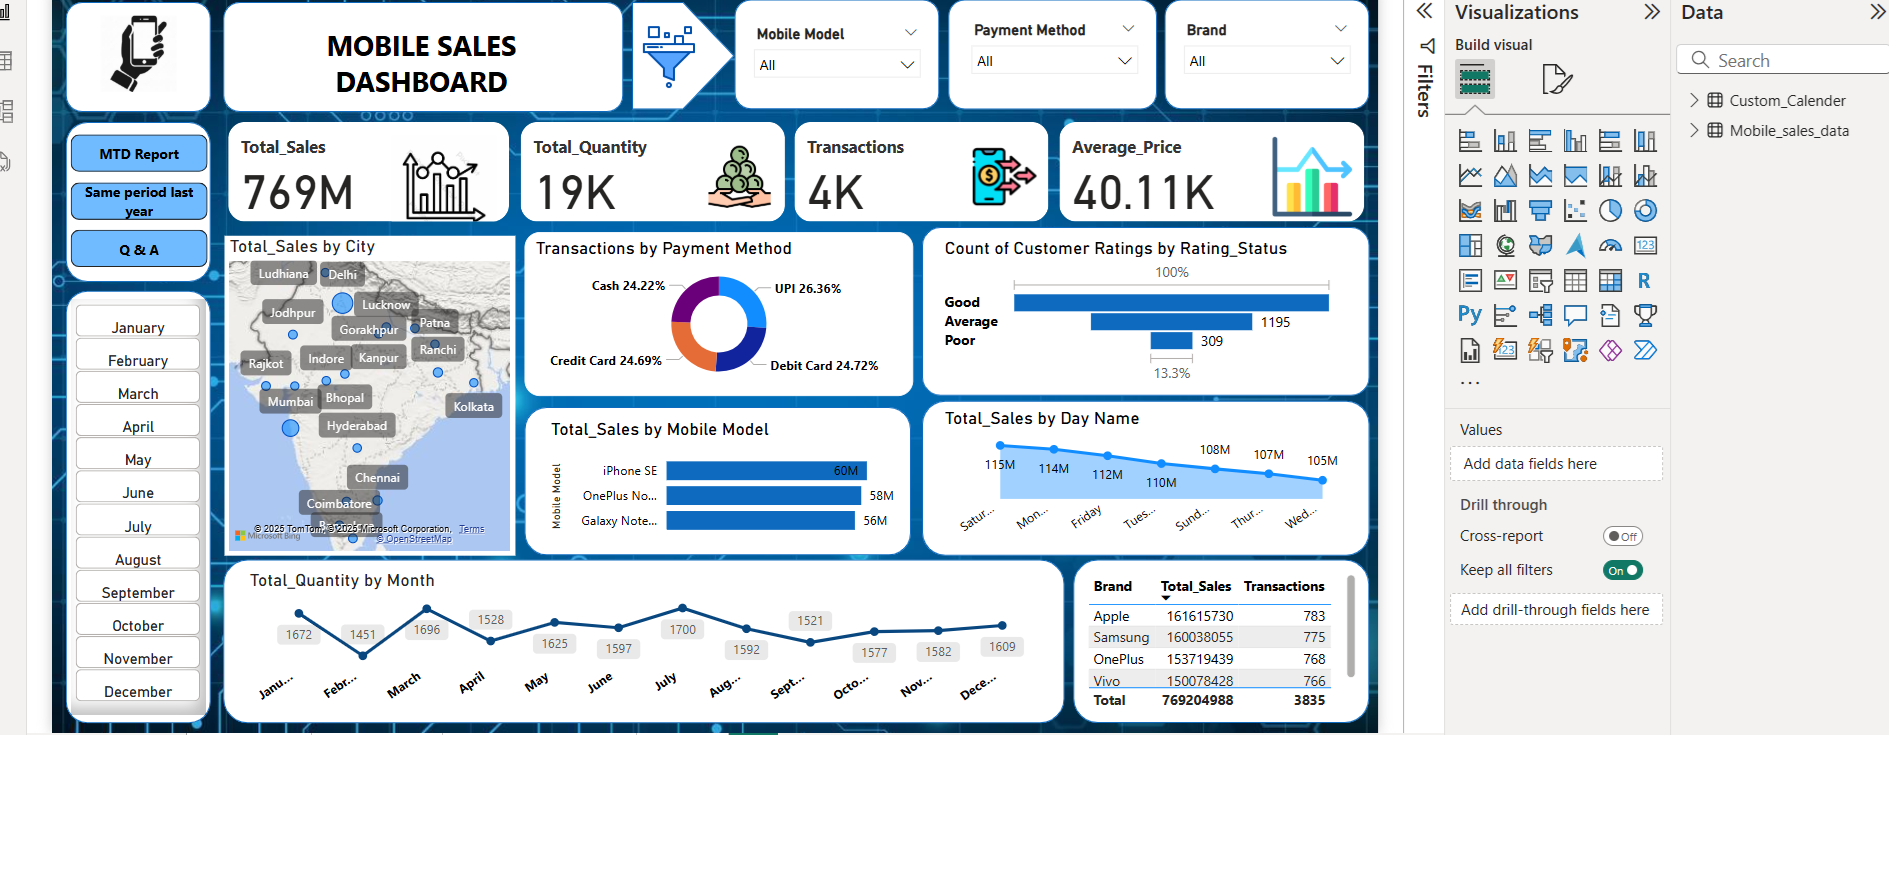

What the dashboard file says about the page in this screenshot:
{"tool":"powerbi","page":{"name":"Dashboard","canvas":[1280,720],"ordinal":0},"visuals":[{"type":"shape","box":[13.3,14.5,139.9,106.2],"z":0},{"type":"image","box":[26.5,22.9,113.4,83.2],"z":1000},{"type":"shape","box":[13.3,130.3,139.9,154.4],"z":2000},{"type":"shape","box":[13.3,293.2,139.9,417.4],"z":3000},{"type":"advancedSlicerVisual","fields":{"Values":["Custom_Calender.Date.Variation.Date Hierarchy.Month"]},"box":[18.1,301.6,130.3,400.5],"z":4000},{"type":"shape","box":[165.3,14.5,386.1,106.2],"z":5000},{"type":"shape","box":[658.7,12.1,197.9,106.2],"z":6000},{"type":"shape","box":[865,12.1,201.5,106.2],"z":7000},{"type":"shape","box":[1073.7,12.1,197.9,106.2],"z":8000},{"type":"cardVisual","fields":{"Data":["Mobile_sales_data.Total_Sales"]},"box":[165.3,125.5,281.1,106.2],"z":9000},{"type":"cardVisual","fields":{"Data":["Mobile_sales_data.Total_Quantity"]},"box":[447.6,125.5,265.4,106.2],"z":10000},{"type":"cardVisual","fields":{"Data":["Mobile_sales_data.Transactions"]},"box":[711.8,125.5,255.8,106.2],"z":11000},{"type":"cardVisual","fields":{"Data":["Mobile_sales_data.Average_Price"]},"box":[967.6,125.5,304,106.2],"z":12000},{"type":"shape","box":[456,405.4,374,143.6],"z":13000},{"type":"shape","box":[839.7,399.3,431.9,149.6],"z":14000},{"type":"shape","box":[839.7,231.6,431.9,162.9],"z":15000},{"type":"shape","box":[165.3,552.5,811.9,158],"z":16000},{"type":"slicer","fields":{"Values":["Mobile_sales_data.Mobile Model"]},"box":[667.2,31.4,181,74.8],"z":17000},{"type":"slicer","fields":{"Values":["Mobile_sales_data.Payment Method"]},"box":[877.1,27.7,181,74.8],"z":18000},{"type":"slicer","fields":{"Values":["Mobile_sales_data.Brand"]},"box":[1082.2,27.7,181,74.8],"z":19000},{"type":"shape","box":[559.8,14.5,98.9,103.8],"z":20000},{"type":"image","box":[559.8,21.7,71.2,91.7],"z":21000},{"type":"textbox","box":[173.7,32.6,365.6,80.8],"z":22000},{"type":"shape","box":[985.7,552.5,285.9,158],"z":23000},{"type":"lineChart","fields":{"Category":["Custom_Calender.Date.Variation.Date Hierarchy.Month"],"Y":["Mobile_sales_data.Total_Quantity"]},"box":[185.8,562.2,761.3,139.9],"z":24000},{"type":"map","fields":{"Category":["Mobile_sales_data.City"],"Size":["Mobile_sales_data.Total_Sales"]},"box":[166.5,240.1,281.1,308.8],"z":25000},{"type":"funnel","fields":{"Y":["CountNonNull(Mobile_sales_data.Customer Ratings)"],"Category":["Mobile_sales_data.Rating_Status"]},"box":[856.6,241.3,386.1,144.8],"z":26000},{"type":"donutChart","fields":{"Y":["Mobile_sales_data.Transactions"],"Category":["Mobile_sales_data.Payment Method"]},"box":[456,236.5,375.2,158],"z":27000},{"type":"clusteredBarChart","fields":{"Category":["Mobile_sales_data.Mobile Model"],"Y":["Mobile_sales_data.Total_Sales"]},"box":[476.2,415.8,343.1,123.5],"z":28000},{"type":"areaChart","fields":{"Category":["Custom_Calender.Day Name"],"Y":["Mobile_sales_data.Total_Sales"]},"box":[856.6,405.4,395.7,133.9],"z":29000},{"type":"tableEx","fields":{"Values":["Mobile_sales_data.Brand","Mobile_sales_data.Total_Sales","Mobile_sales_data.Transactions"]},"box":[994.1,580.3,269,139.9],"z":30000},{"type":"pageNavigator","box":[18.1,142.4,132.7,130.3],"z":31000}]}

Visuals, with their boxes on the page's 1280x720 design canvas (x1, y1, x2, y2). These are canvas units, not pixel positions in the 1894x892 screenshot, which may show the page scaled, cropped or inside an application window:
shape: (13,14,153,121)
image: (26,23,140,106)
shape: (13,130,153,285)
shape: (13,293,153,711)
advancedSlicerVisual - Custom_Calender.Date.Variation.Date Hierarchy.Month: (18,302,148,702)
shape: (165,14,551,121)
shape: (659,12,857,118)
shape: (865,12,1066,118)
shape: (1074,12,1272,118)
cardVisual - Mobile_sales_data.Total_Sales: (165,126,446,232)
cardVisual - Mobile_sales_data.Total_Quantity: (448,126,713,232)
cardVisual - Mobile_sales_data.Transactions: (712,126,968,232)
cardVisual - Mobile_sales_data.Average_Price: (968,126,1272,232)
shape: (456,405,830,549)
shape: (840,399,1272,549)
shape: (840,232,1272,394)
shape: (165,552,977,710)
slicer - Mobile_sales_data.Mobile Model: (667,31,848,106)
slicer - Mobile_sales_data.Payment Method: (877,28,1058,102)
slicer - Mobile_sales_data.Brand: (1082,28,1263,102)
shape: (560,14,659,118)
image: (560,22,631,113)
textbox: (174,33,539,113)
shape: (986,552,1272,710)
lineChart - Custom_Calender.Date.Variation.Date Hierarchy.Month x Mobile_sales_data.Total_Quantity: (186,562,947,702)
map - Mobile_sales_data.City x Mobile_sales_data.Total_Sales: (166,240,448,549)
funnel - CountNonNull(Mobile_sales_data.Customer Ratings) x Mobile_sales_data.Rating_Status: (857,241,1243,386)
donutChart - Mobile_sales_data.Transactions x Mobile_sales_data.Payment Method: (456,236,831,394)
clusteredBarChart - Mobile_sales_data.Mobile Model x Mobile_sales_data.Total_Sales: (476,416,819,539)
areaChart - Custom_Calender.Day Name x Mobile_sales_data.Total_Sales: (857,405,1252,539)
tableEx - Mobile_sales_data.Brand x Mobile_sales_data.Total_Sales: (994,580,1263,720)
pageNavigator: (18,142,151,273)
